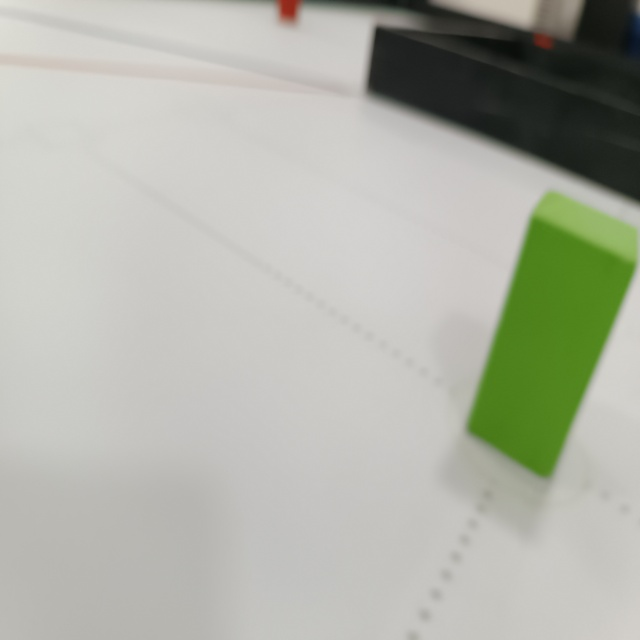blue line: (0, 3, 370, 83)
green rectangular prism: (458, 190, 640, 478)
orange line: (0, 55, 361, 94)
